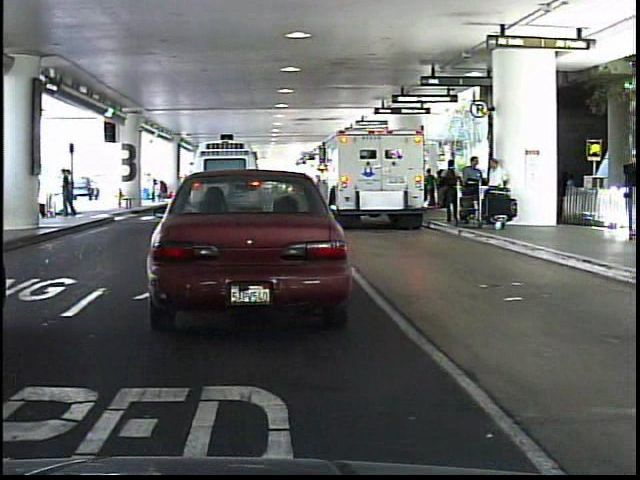person: (52, 166, 73, 222)
